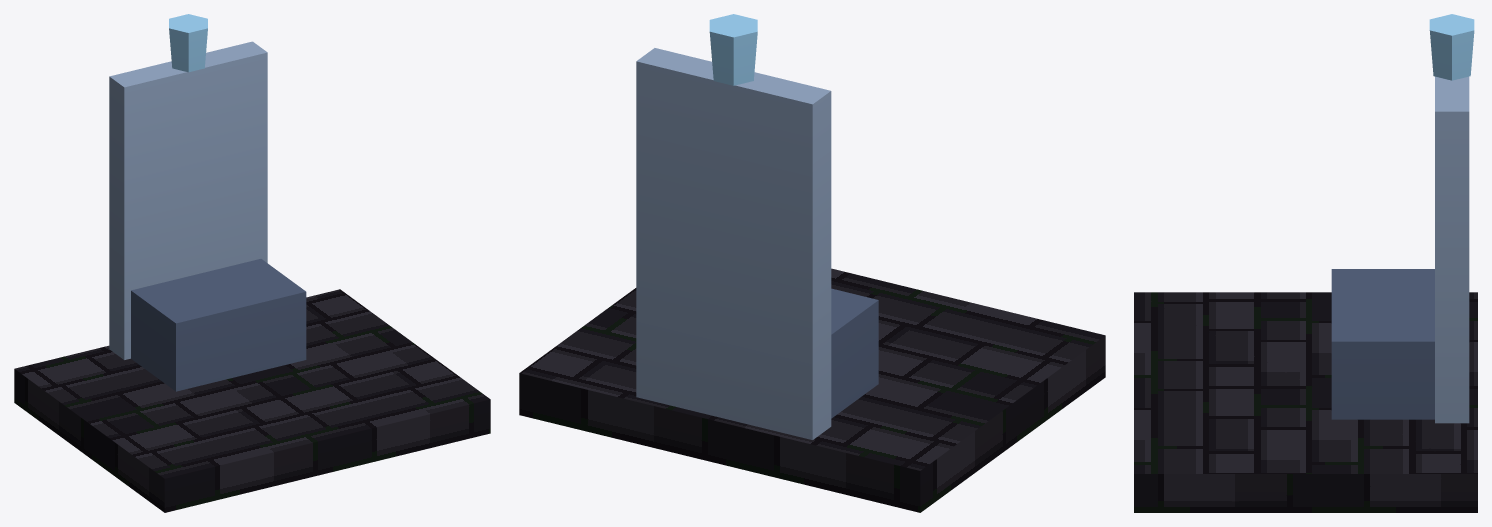
File: pale_throne.glb
3 views of the same model, side by side, from view 1: azimuth 30°, elevation 25°; view 2: azimuth 150°, elevation 25°; view 3: azimuth 270°, elevation 25° (orthographic). The views are drawn at different scales.
Visible parts, largest first — view 1: pale_throne; view 2: pale_throne; view 3: pale_throne.
Part boxes in pixels (<box>): pale_throne: <box>14,14,490,512</box>; pale_throne: <box>519,14,1105,512</box>; pale_throne: <box>1134,14,1477,512</box>.
Bounding box in the file's own units: 5 × 5.1 × 4.
Materials: 3 (1 with a texture image).
